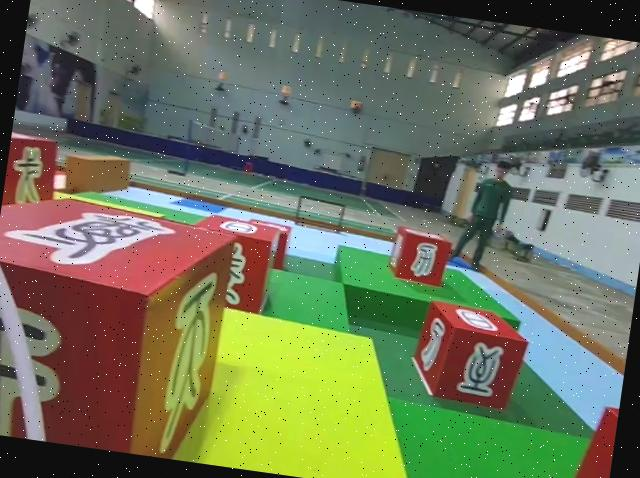R2 Fake: (0, 186, 236, 463), (406, 299, 531, 418), (1, 131, 64, 223), (389, 230, 451, 290)
